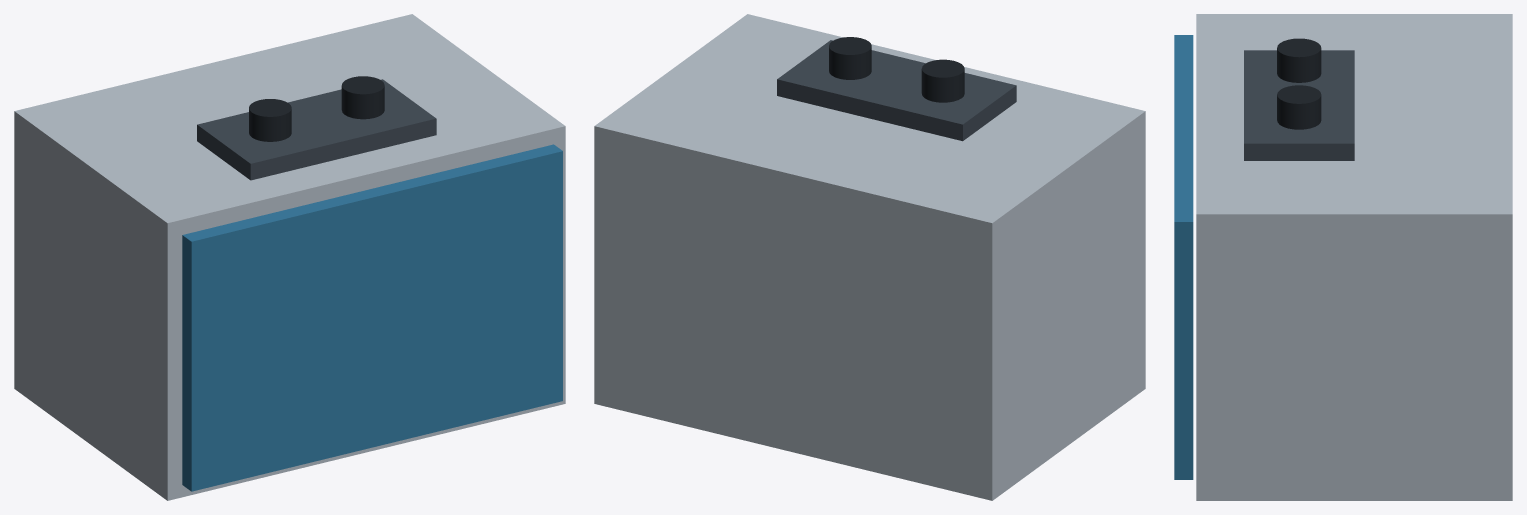
The picture shows the model from 3 angles, left to right: view 1: azimuth 30°, elevation 25°; view 2: azimuth 150°, elevation 25°; view 3: azimuth 270°, elevation 25°; orthographic projection. The views are drawn at different scales.
Parts seen in each view (by area): view 1: body, door, panel; view 2: body, panel; view 3: body, panel, door.
Boxes of the visible parts, x1,y1,x2,y2 form: body: (14,14,565,500); door: (182,144,562,491); panel: (197,76,436,180); body: (594,14,1145,500); panel: (777,37,1016,141); body: (1196,14,1512,500); panel: (1244,38,1354,160); door: (1174,35,1193,479).
Bounding box in the file's own units: 3 × 2.3 × 2.14.
